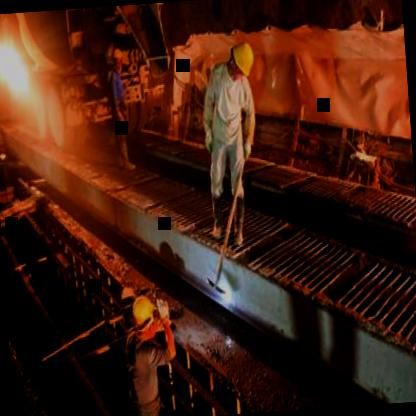helmet: (226, 36, 258, 88), (128, 292, 160, 344), (112, 44, 126, 74)
